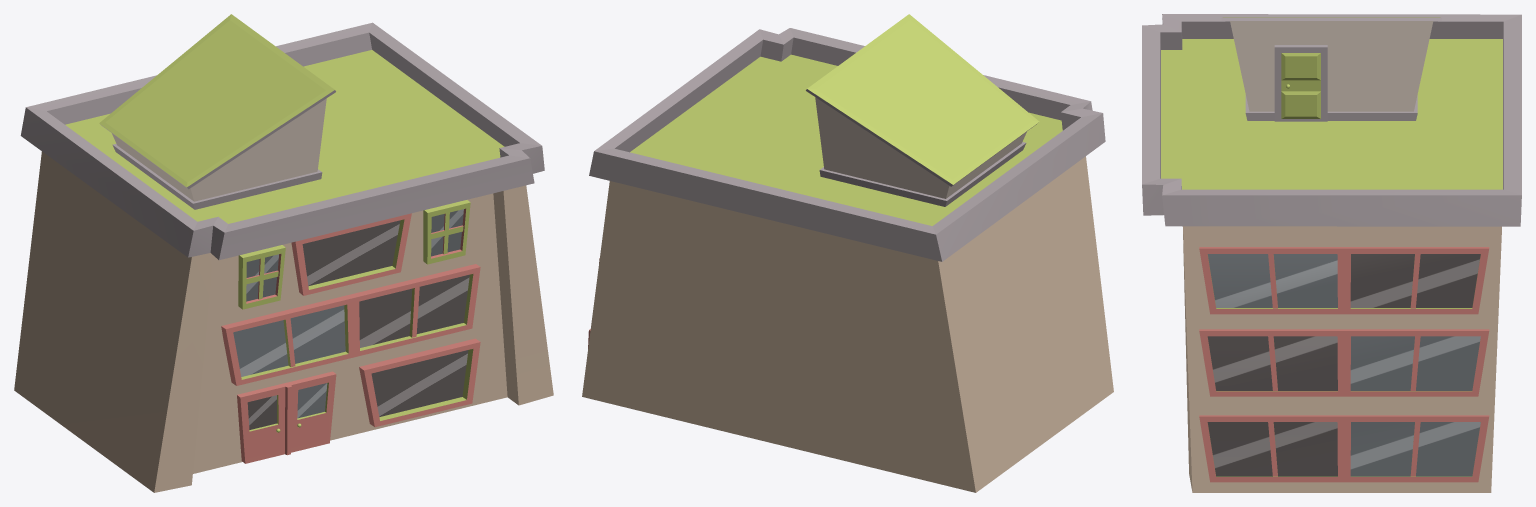
Rendered from House8.FBX.
3 views of the same model, side by side, from view 1: azimuth 30°, elevation 25°; view 2: azimuth 150°, elevation 25°; view 3: azimuth 270°, elevation 25° (orthographic). The views are drawn at different scales.
Parts seen in each view (by area): view 1: House006; view 2: House006; view 3: House006.
Part boxes in pixels (x1,y1,x2,y2): House006: (14,14,553,492); House006: (582,14,1113,492); House006: (1142,14,1521,492).
Size of the model in its own units: 469 by 361 by 386.
